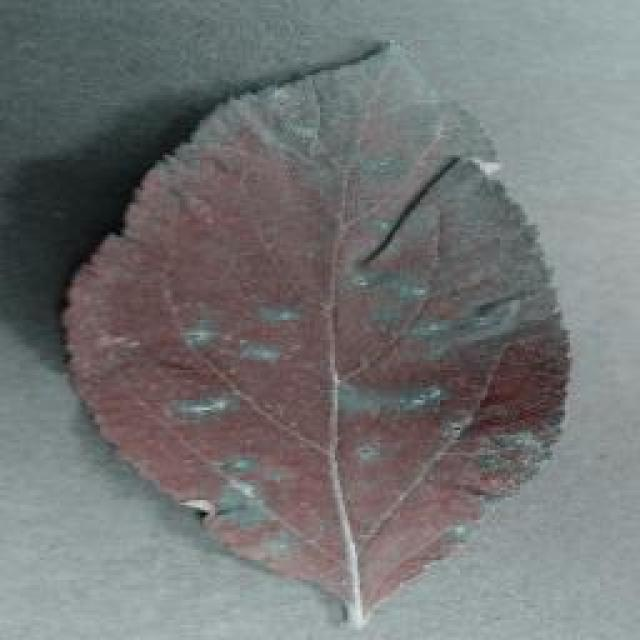apple scab disease: (58, 38, 572, 628)
